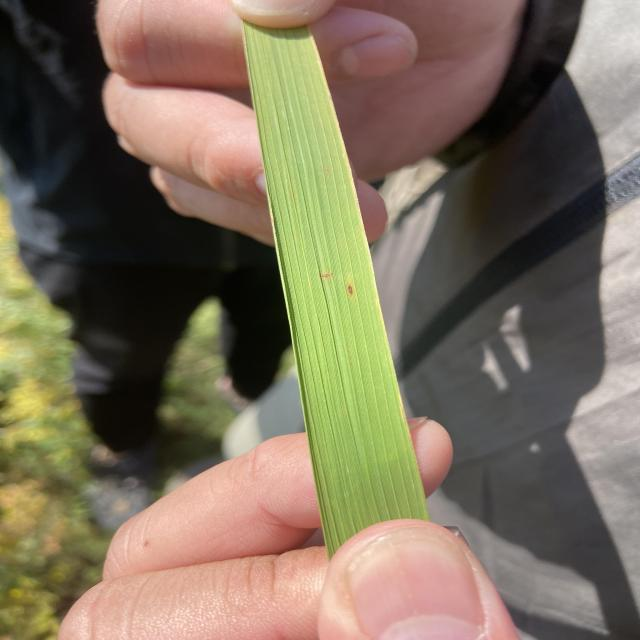Dom nau: (348, 286, 353, 295), (322, 274, 329, 277)
